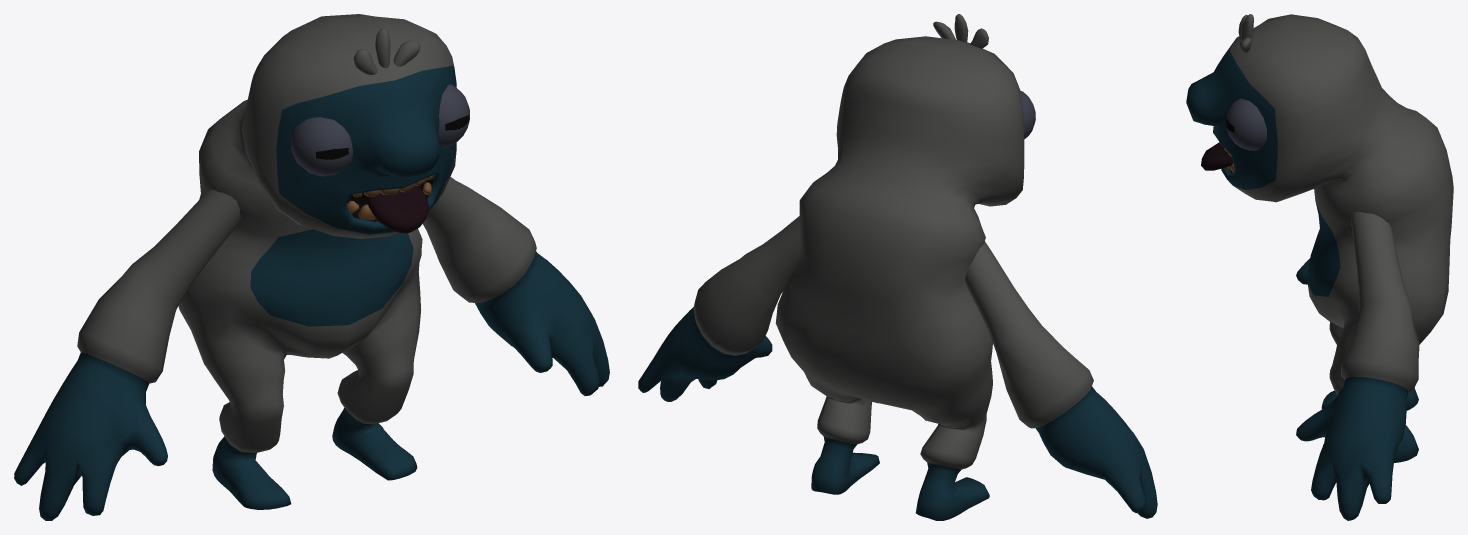
File: Yeti.obj
3 views of the same model, side by side, from view 1: azimuth 30°, elevation 25°; view 2: azimuth 150°, elevation 25°; view 3: azimuth 270°, elevation 25° (orthographic). The views are drawn at different scales.
Visible parts, largest first — view 1: Yeti_Cube.059; view 2: Yeti_Cube.059; view 3: Yeti_Cube.059.
Boxes of the visible parts, <box> form: Yeti_Cube.059: <box>14,14,609,520</box>; Yeti_Cube.059: <box>638,14,1157,520</box>; Yeti_Cube.059: <box>1186,14,1453,520</box>.
Bounding box in the file's own units: 3.22 × 2.64 × 1.53.
